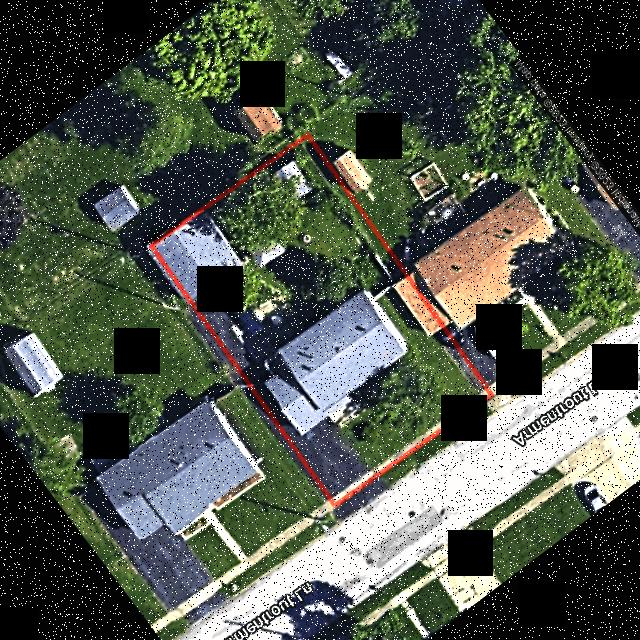Driveway: (196, 289, 368, 495)
Extra Lawn: (381, 404, 491, 487)
Extra Sidewalk: (333, 392, 483, 501), (338, 478, 386, 518)
House: (264, 291, 406, 436)
Other: (155, 213, 243, 302), (227, 292, 307, 364), (243, 225, 286, 268), (270, 161, 312, 205)
